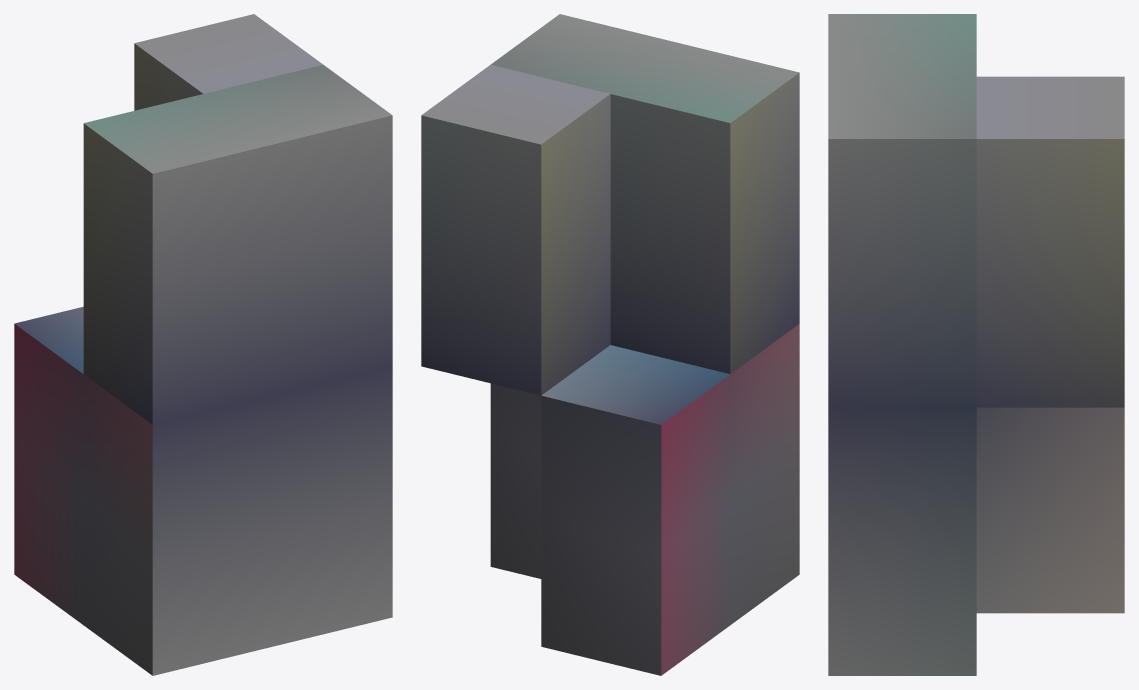
Rendered from DrinkCan_Waste_B_00.fbx.
3 views of the same model, side by side, from view 1: azimuth 30°, elevation 25°; view 2: azimuth 150°, elevation 25°; view 3: azimuth 270°, elevation 25° (orthographic). The views are drawn at different scales.
Parts seen in each view (by area): view 1: DrinkCan_Waste_B_00; view 2: DrinkCan_Waste_B_00; view 3: DrinkCan_Waste_B_00.
Part boxes in pixels (x1,y1,x2,y2): DrinkCan_Waste_B_00: (14, 14, 392, 675); DrinkCan_Waste_B_00: (421, 14, 799, 675); DrinkCan_Waste_B_00: (828, 14, 1124, 675).
Size of the model in its own units: 10 by 20 by 10.
